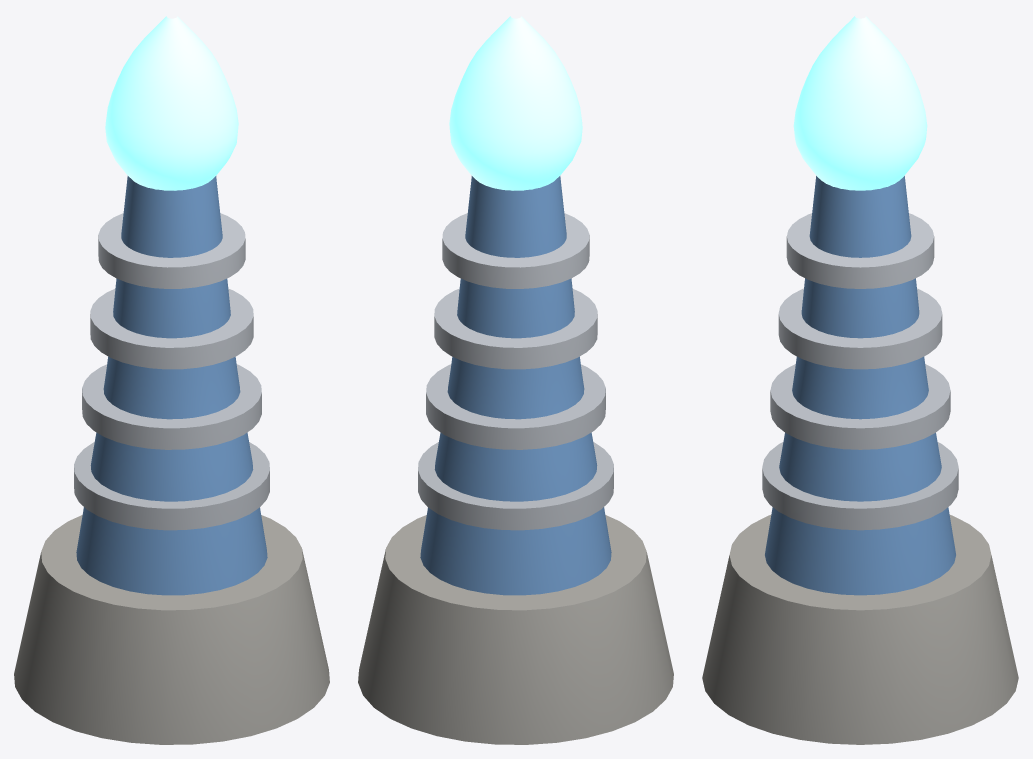
The model's file is atesla.glb.
3 views of the same model, side by side, from view 1: azimuth 30°, elevation 25°; view 2: azimuth 150°, elevation 25°; view 3: azimuth 270°, elevation 25° (orthographic).
Parts seen in each view (by area): view 1: Hull; view 2: Hull; view 3: Hull.
Part boxes in pixels (left/top/right/bottom): Hull: left=14, top=16, right=329, bottom=744; Hull: left=358, top=16, right=673, bottom=744; Hull: left=702, top=16, right=1018, bottom=744.
Size of the model in its own units: 1.04 by 2.41 by 1.04.
